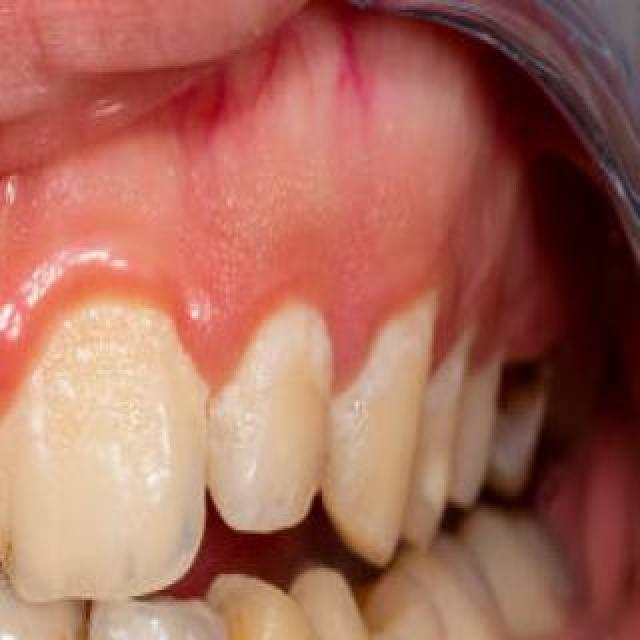cavities: (474, 340, 562, 444)
maligned: (11, 288, 211, 590), (0, 554, 82, 640), (84, 586, 200, 640), (214, 600, 328, 640)
plaque: (24, 317, 206, 509), (237, 296, 341, 448), (336, 306, 444, 436)
stains: (0, 616, 82, 640), (212, 628, 324, 640)
